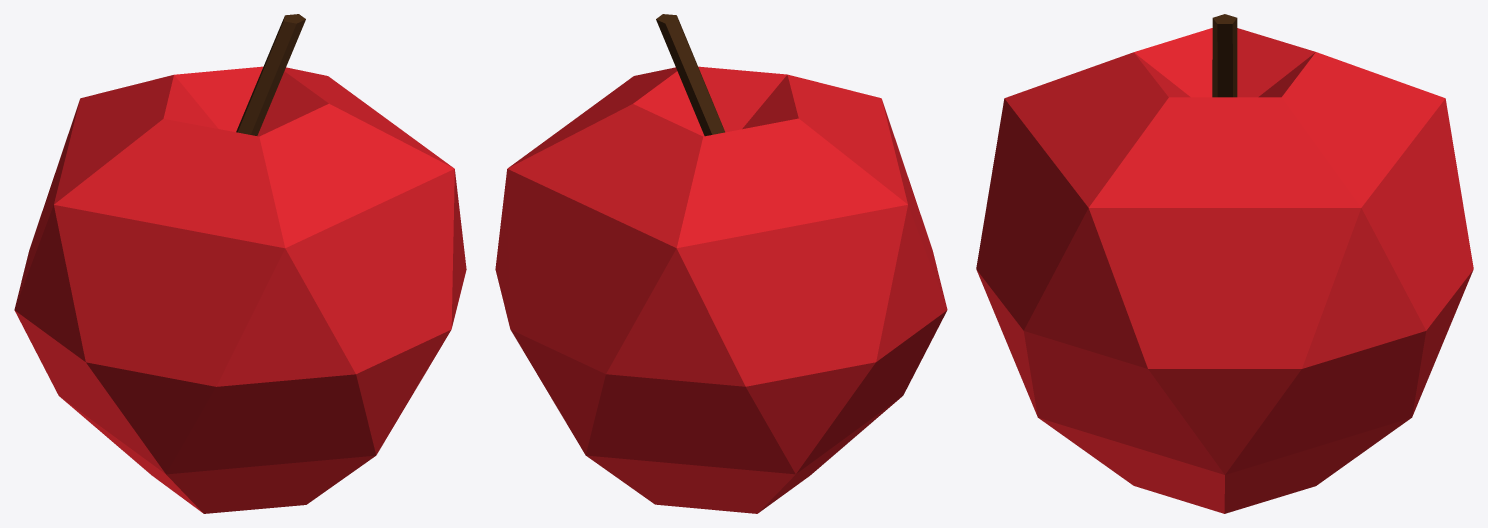
Rendered from Apple.fbx.
3 views of the same model, side by side, from view 1: azimuth 30°, elevation 25°; view 2: azimuth 150°, elevation 25°; view 3: azimuth 270°, elevation 25° (orthographic). The views are drawn at different scales.
Visible parts, largest first — view 1: Apple; view 2: Apple; view 3: Apple.
Boxes of the visible parts, x1,y1,x2,y2 form: Apple: (14, 14, 466, 513); Apple: (495, 14, 947, 513); Apple: (976, 14, 1473, 513).
Bounding box in the file's own units: 31.47 × 35.37 × 33.09.
